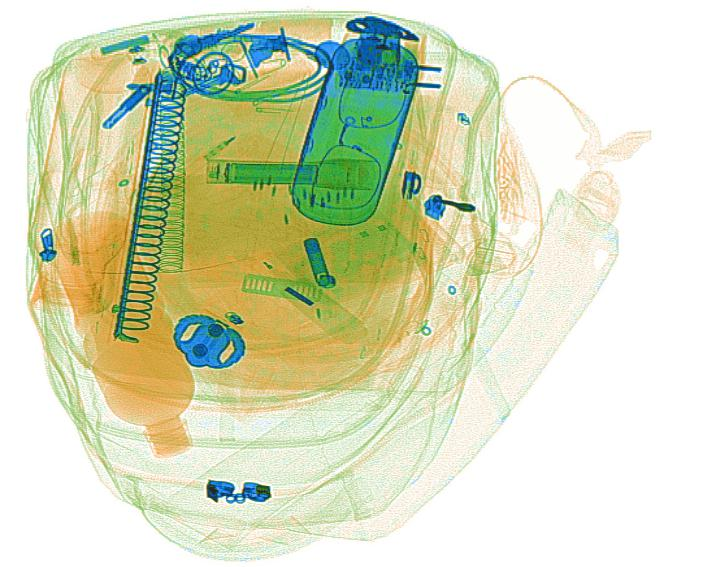battery: (227, 159, 322, 185)
